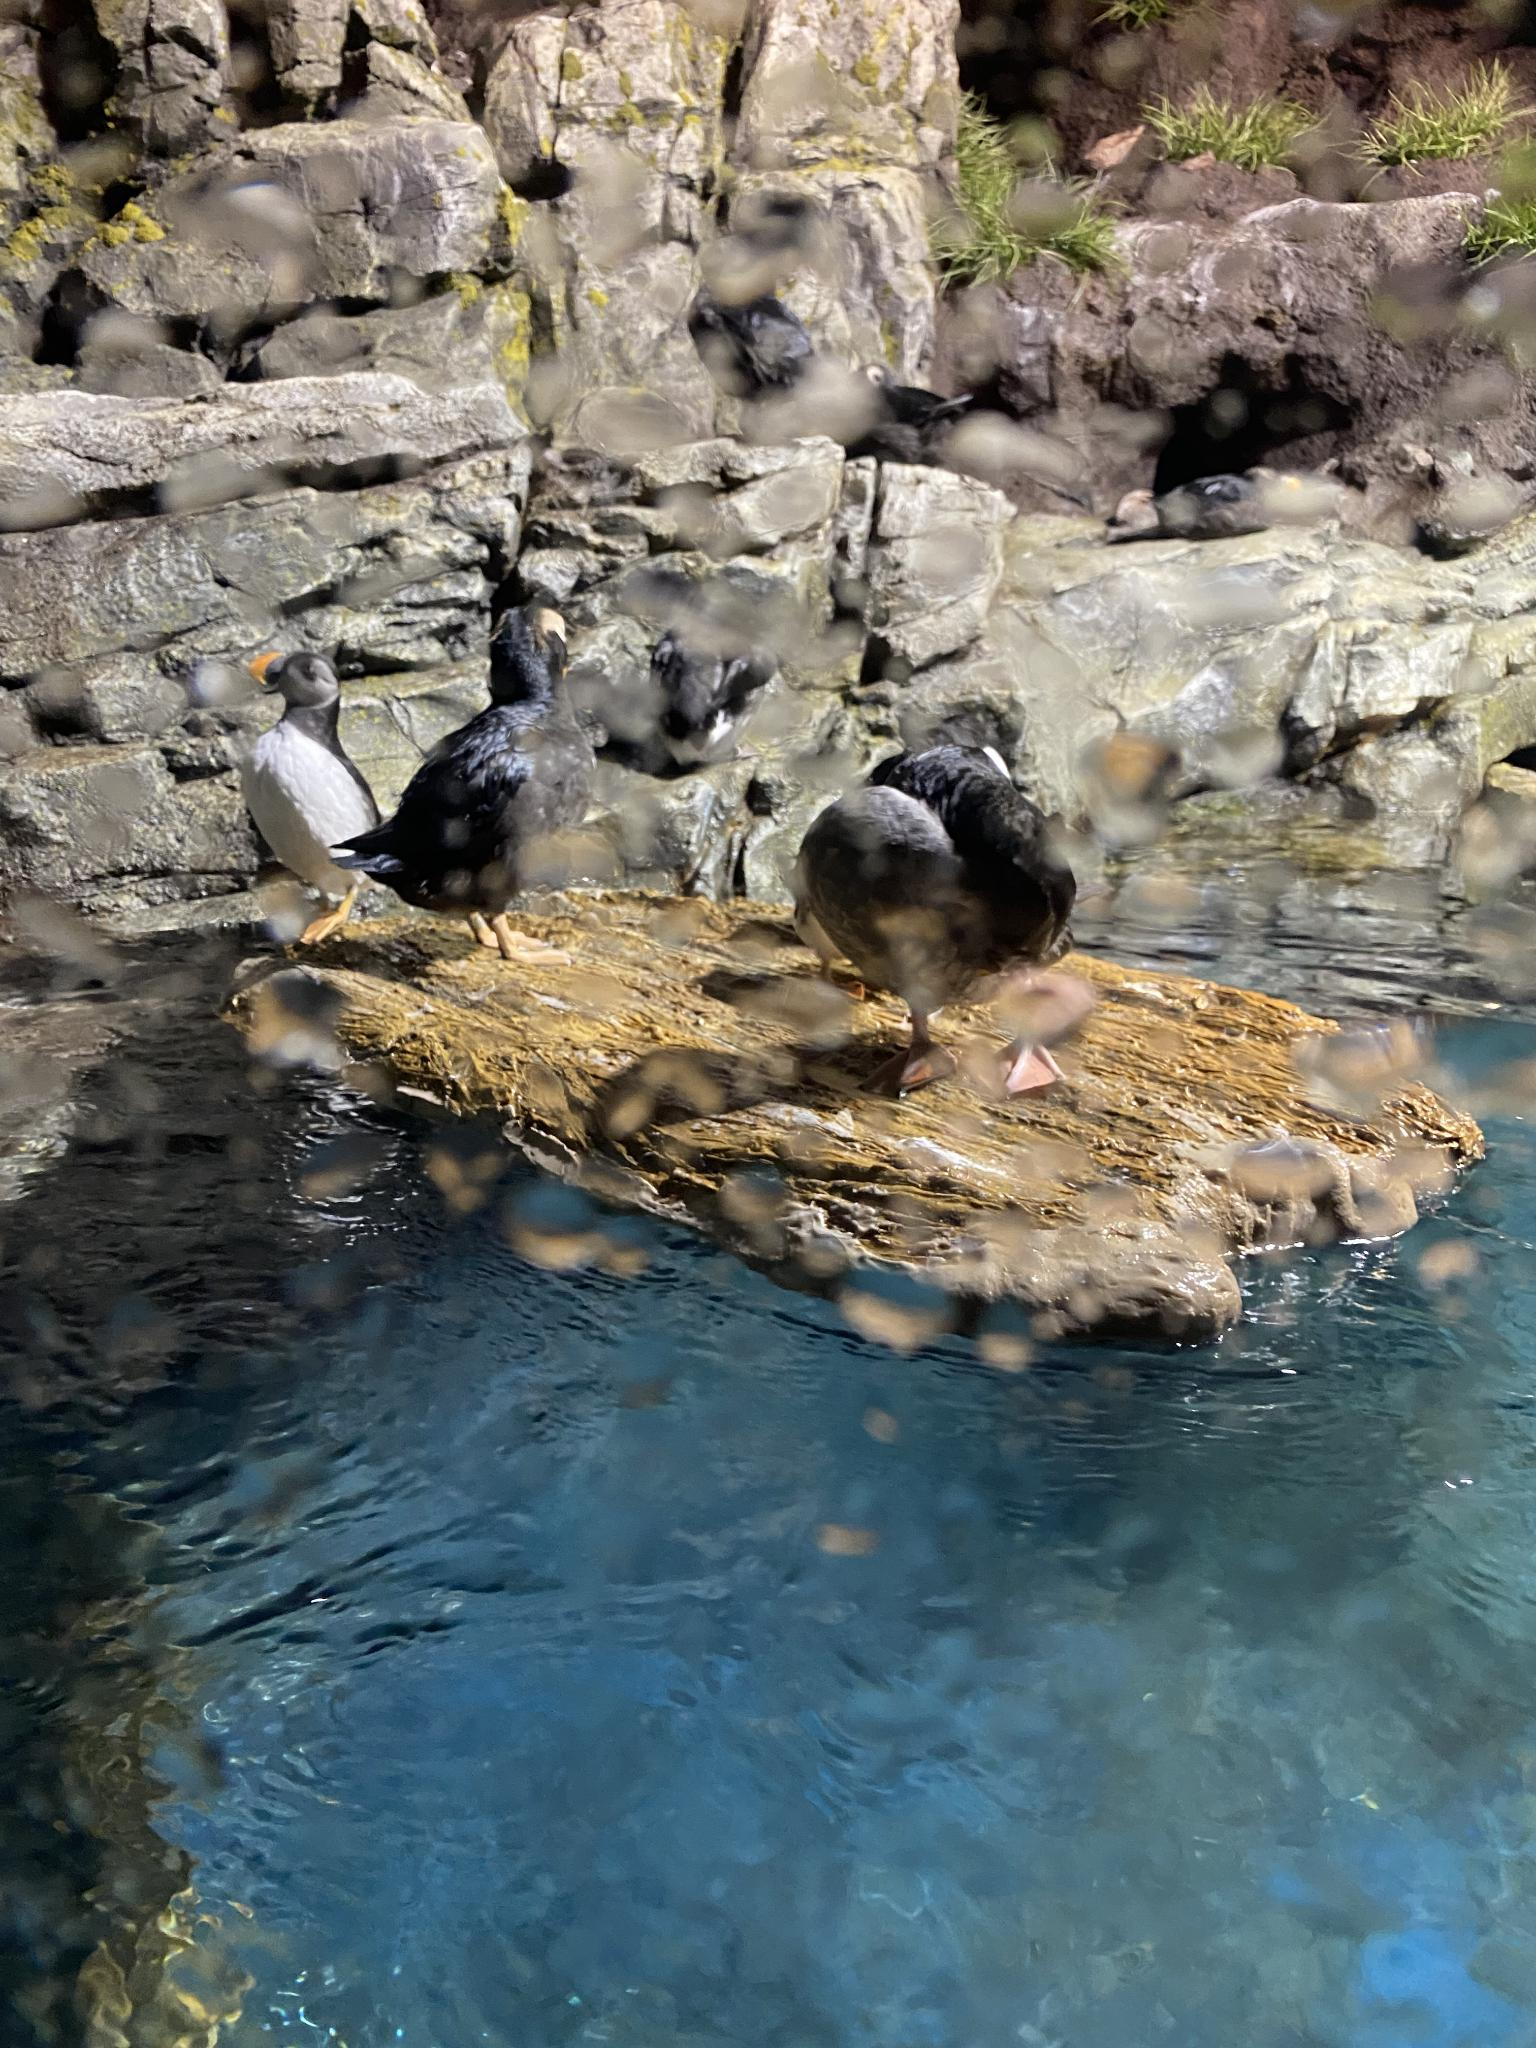puffin: (770, 681, 1105, 1080), (381, 616, 629, 939), (219, 634, 366, 924)
